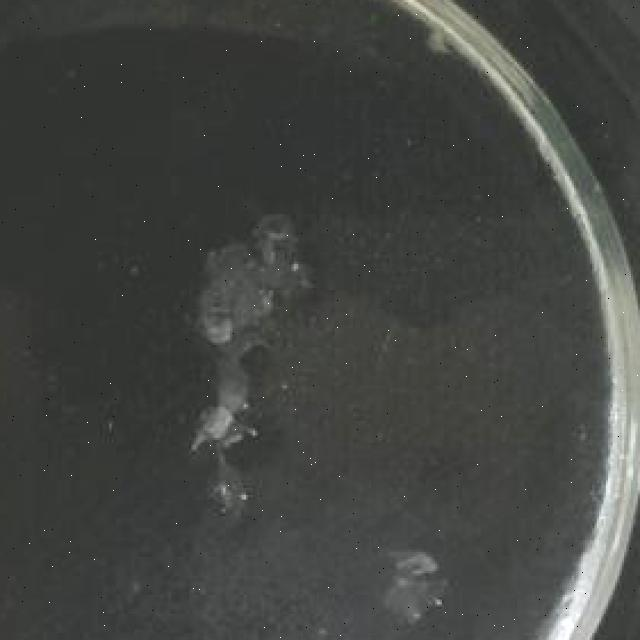Microplastic: (166, 181, 344, 473), (362, 526, 460, 621)
